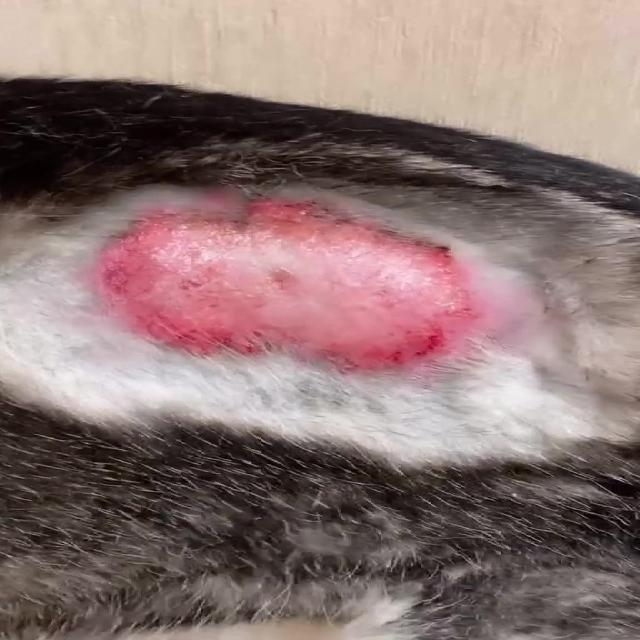hac lao: (32, 137, 506, 508)
